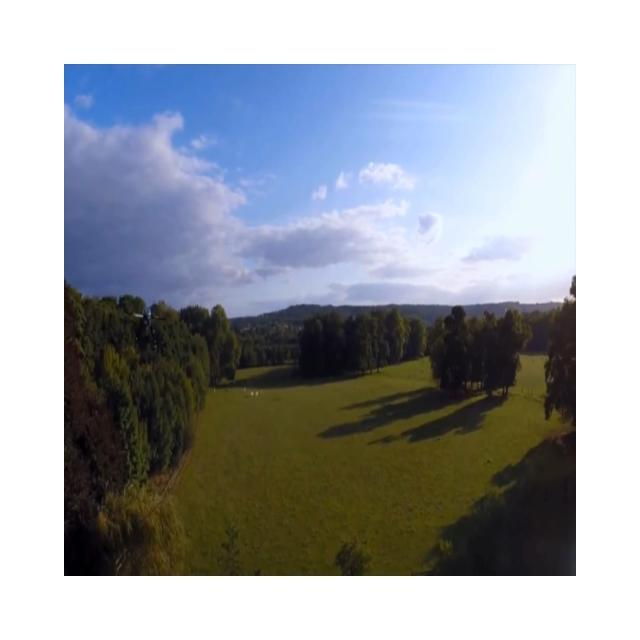drone: (132, 305, 166, 334)
